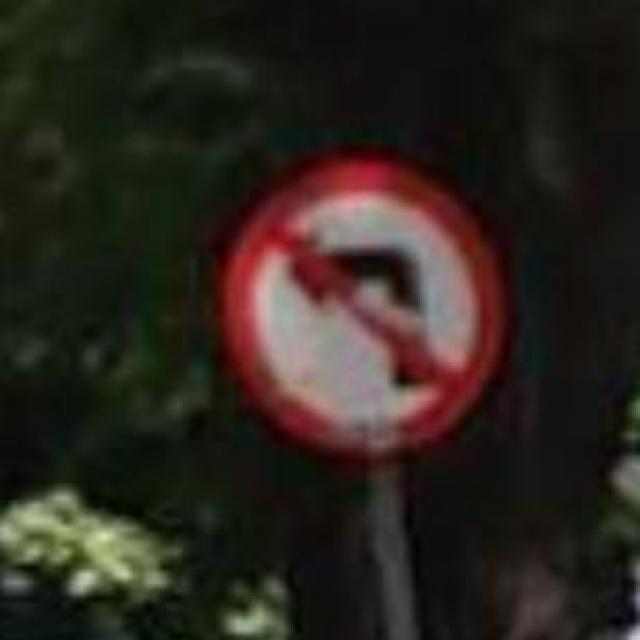traffic sign: (233, 170, 501, 452)
